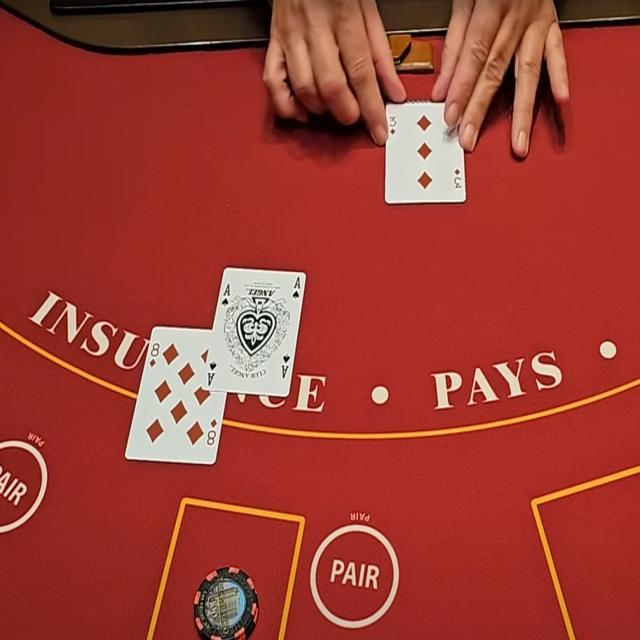3: (388, 113, 398, 129)
8: (148, 338, 161, 358)
A: (222, 282, 232, 298)
